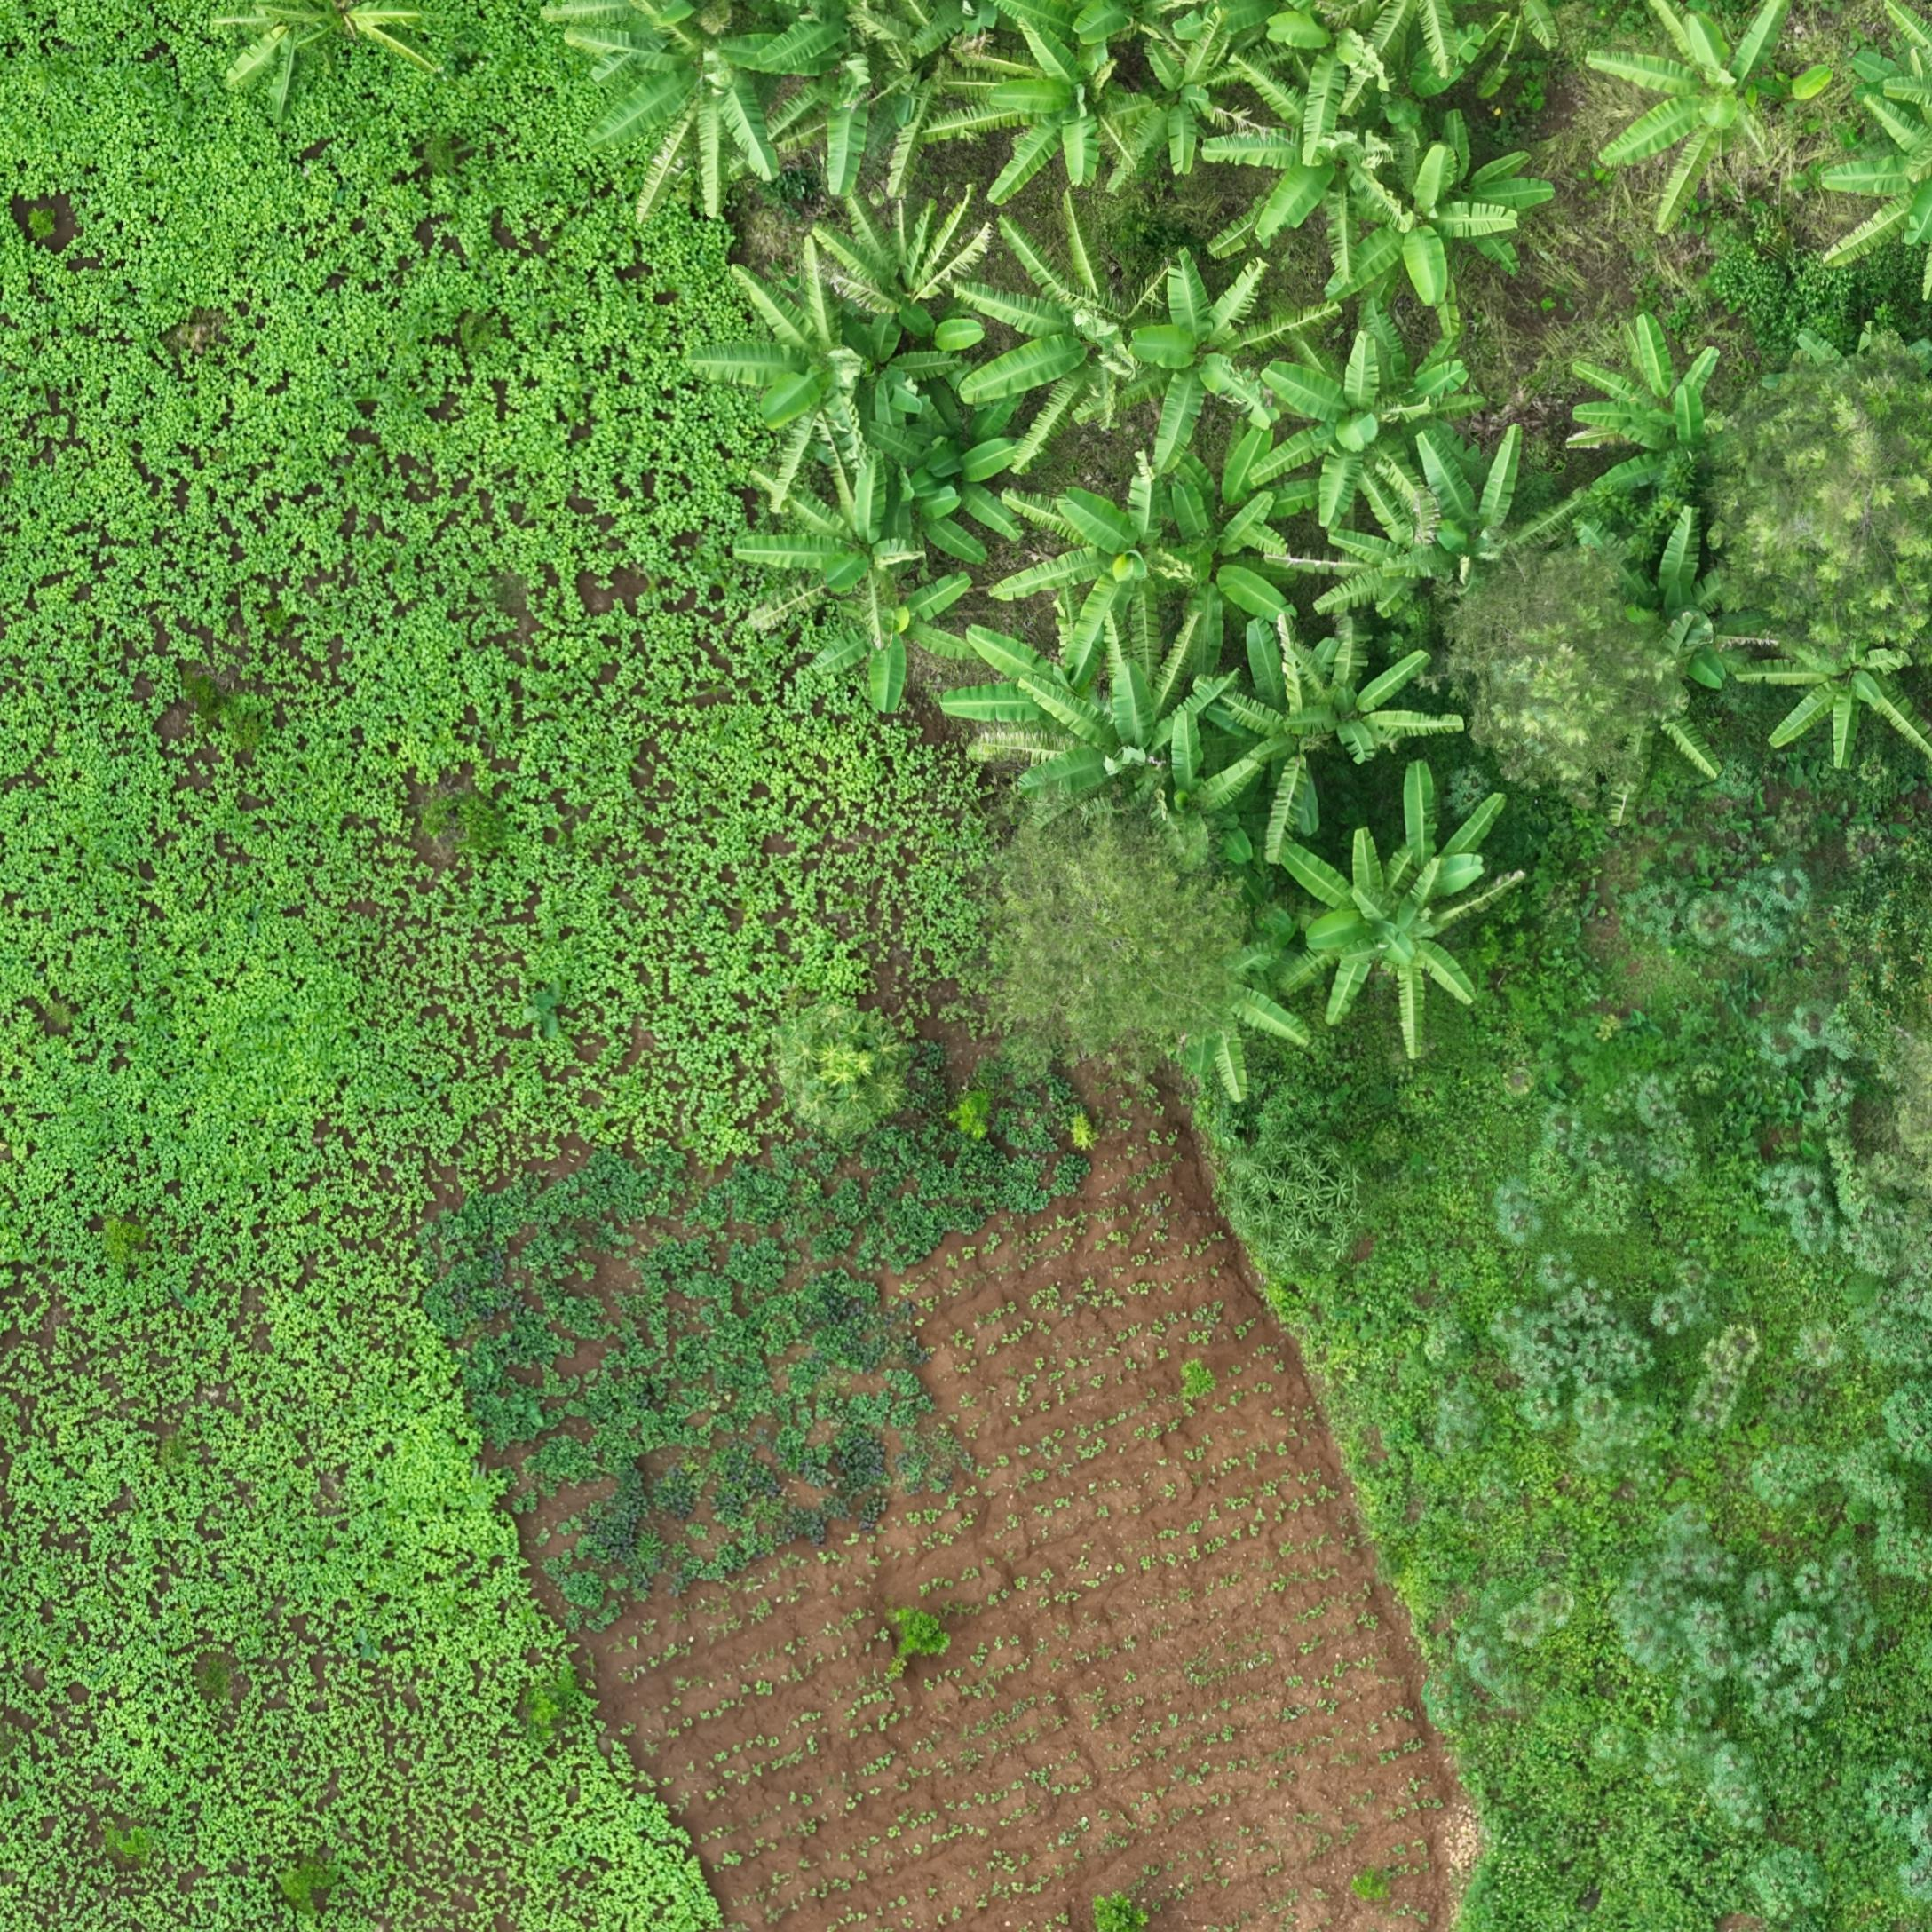Banana: (1414, 430, 1660, 665), (1003, 207, 1207, 465), (1261, 630, 1509, 833), (1638, 16, 1882, 198), (715, 474, 1019, 609), (706, 265, 906, 455), (1021, 504, 1240, 658), (1299, 839, 1483, 1003), (209, 11, 476, 110), (1642, 294, 1775, 481), (982, 656, 1154, 759)
